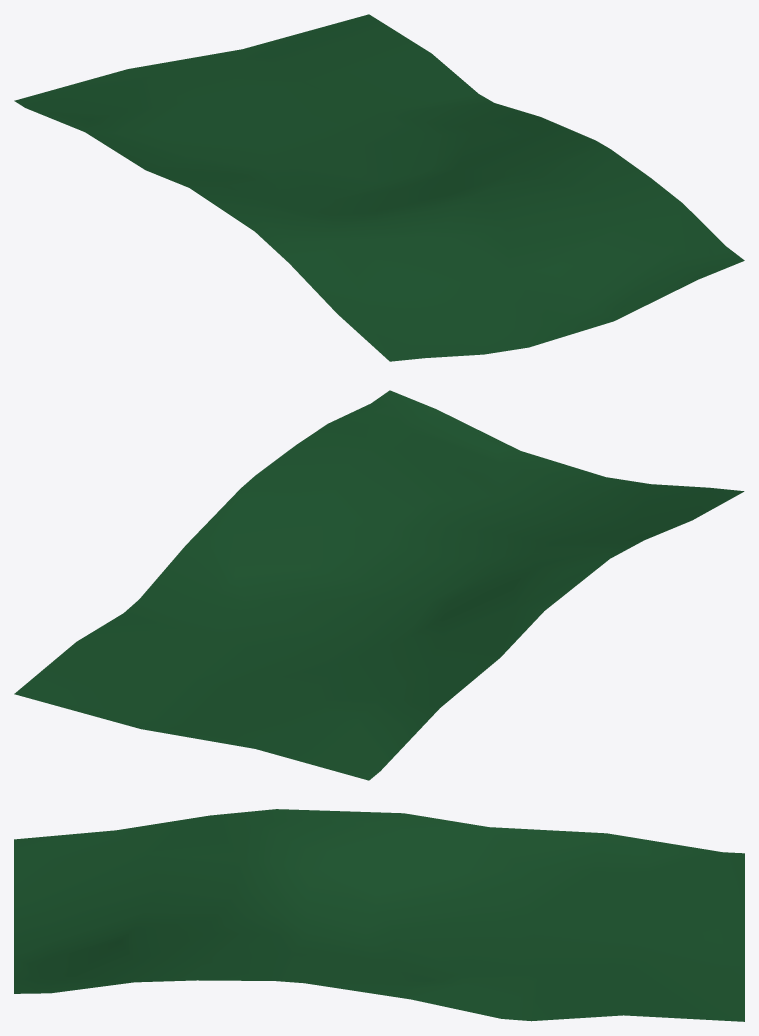
The model's file is payo_land_x4_ym4_lod2.glb.
3 views of the same model, one above another, from view 1: azimuth 30°, elevation 25°; view 2: azimuth 150°, elevation 25°; view 3: azimuth 270°, elevation 25° (orthographic). The views are drawn at different scales.
Parts seen in each view (by area): view 1: payo_land_x4_ym4; view 2: payo_land_x4_ym4; view 3: payo_land_x4_ym4.
Boxes of the visible parts, box(x1,y1,x2,y2) form: payo_land_x4_ym4: box(14, 14, 744, 361); payo_land_x4_ym4: box(14, 390, 744, 780); payo_land_x4_ym4: box(14, 809, 744, 1021).
Size of the model in its own units: 126 by 17.28 by 231.
